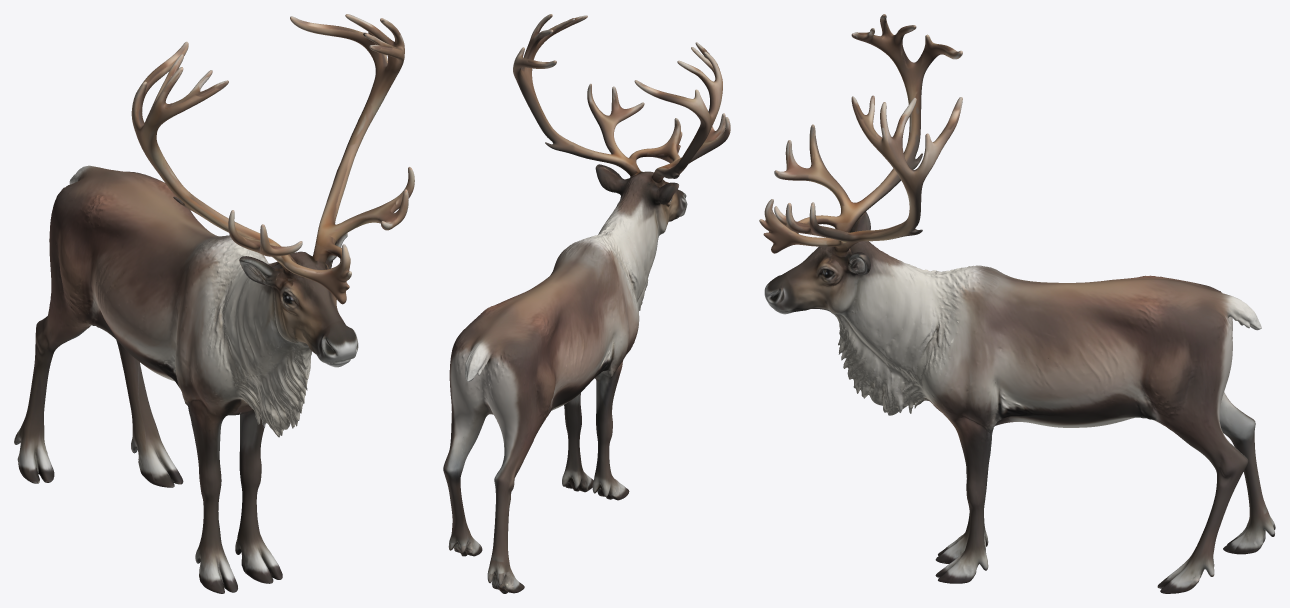
File: Reindeer.glb
The picture shows the model from 3 angles, left to right: view 1: azimuth 30°, elevation 25°; view 2: azimuth 150°, elevation 25°; view 3: azimuth 270°, elevation 25°; orthographic projection. The views are drawn at different scales.
Bounding box in the file's own units: 0.8896 × 1.9 × 1.74.
Materials: 1 (1 with a texture image).
